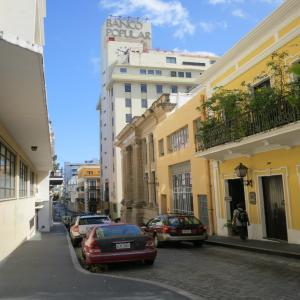Vehicle-registration-plate: (118, 244, 131, 250), (183, 231, 192, 235)
